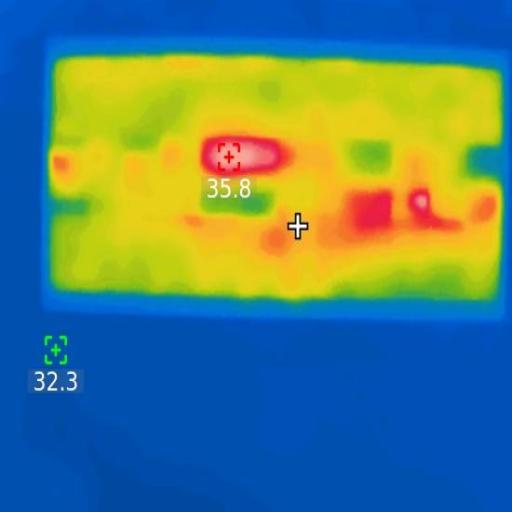hotspot: (202, 138, 292, 178), (354, 186, 399, 233), (406, 191, 438, 225)
